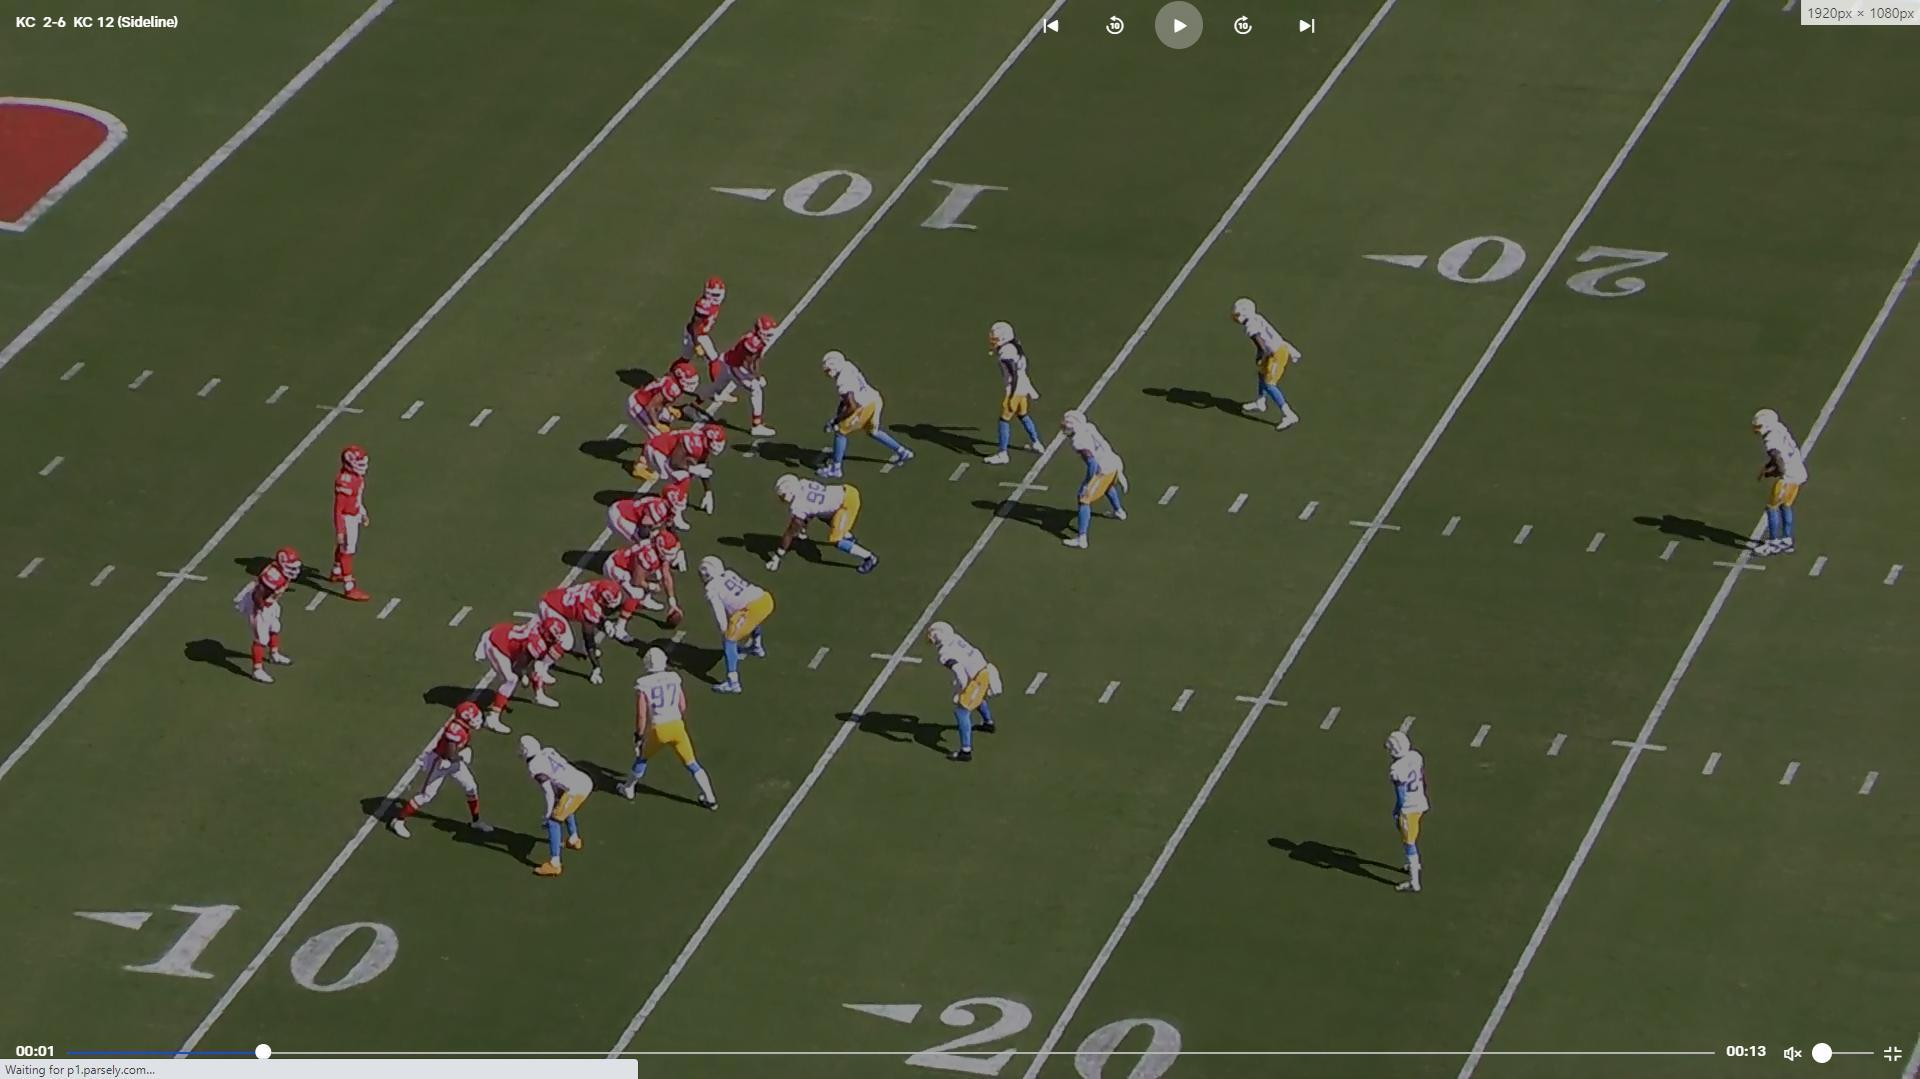defense: (618, 646, 720, 813), (816, 350, 915, 484), (770, 471, 884, 579), (935, 612, 1010, 762), (690, 554, 766, 700), (525, 732, 601, 876), (1059, 410, 1131, 559), (1232, 295, 1308, 437), (1753, 404, 1815, 562), (1387, 722, 1441, 900), (989, 315, 1051, 468)
oline: (476, 611, 570, 736), (538, 576, 625, 687), (607, 534, 686, 640), (646, 425, 735, 517), (601, 488, 687, 554)
qb: (330, 439, 385, 608)
skill: (378, 696, 491, 838), (705, 313, 783, 437), (626, 356, 700, 476), (239, 543, 301, 683), (667, 270, 729, 384)
